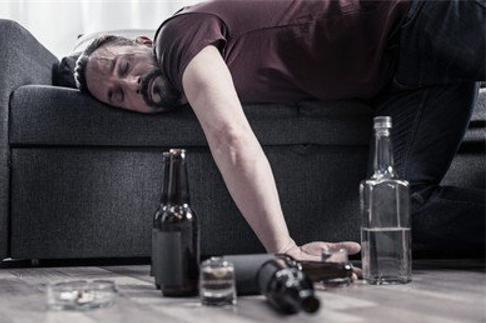Drunk: (85, 46, 166, 110)
